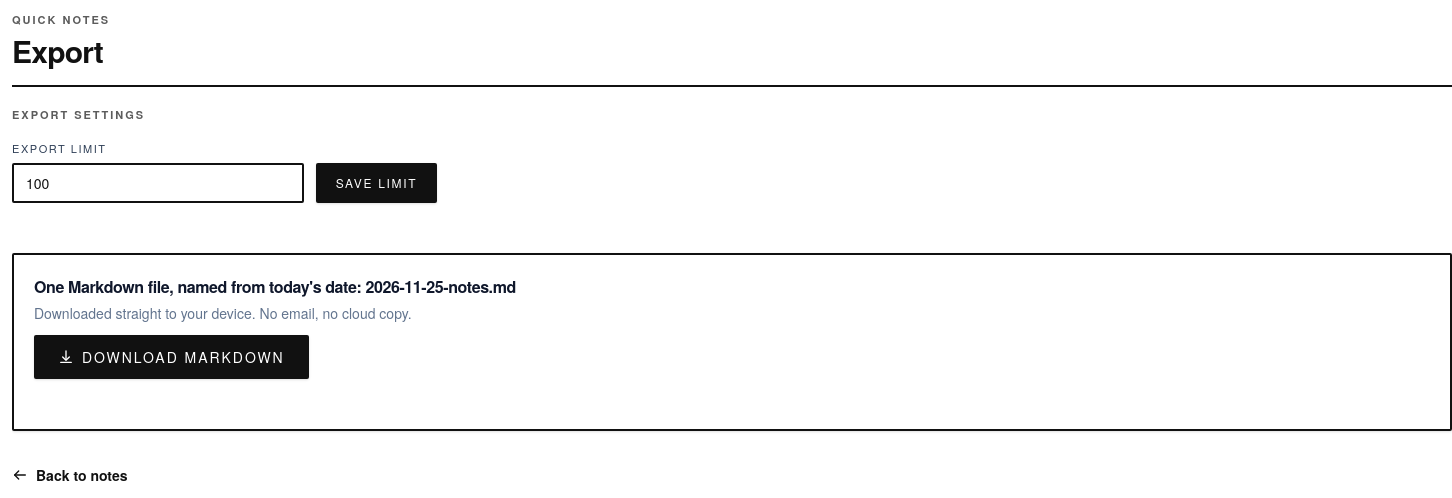
Export screen — export-limit setting › [AC-019] reports a problem, without the validation wording, when a valid number fails to save
Replace the text in the field with test id "export-limit-default-100-input" with "25" at (158, 183), box [12, 163, 304, 203]
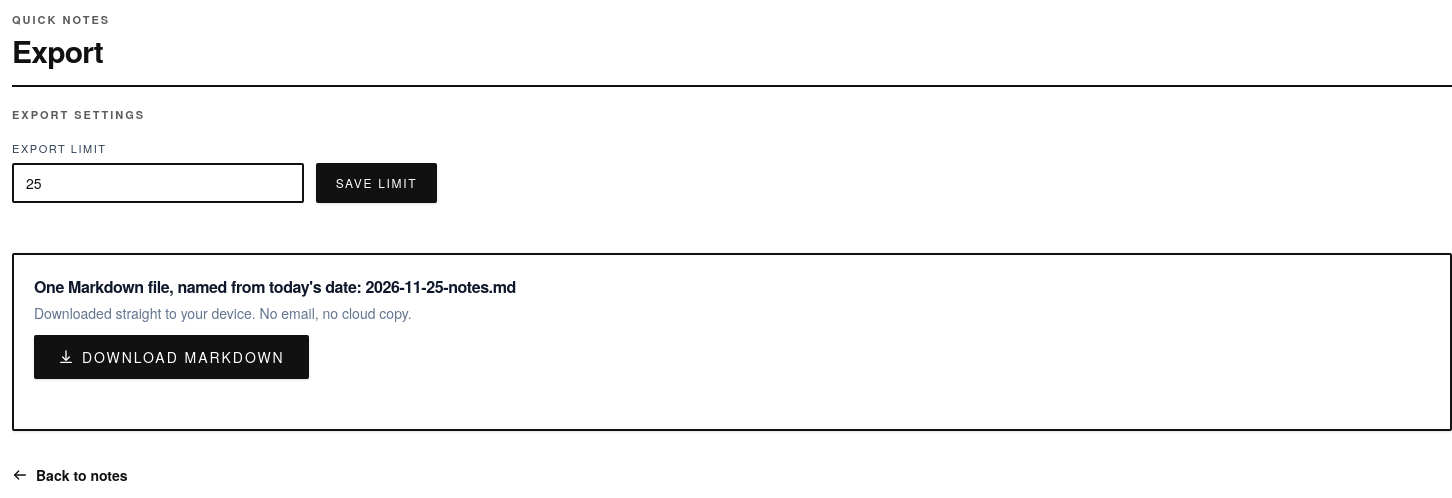
Click the button with test id "save-limit-btn".
click(376, 183)  # box [316, 163, 437, 203]
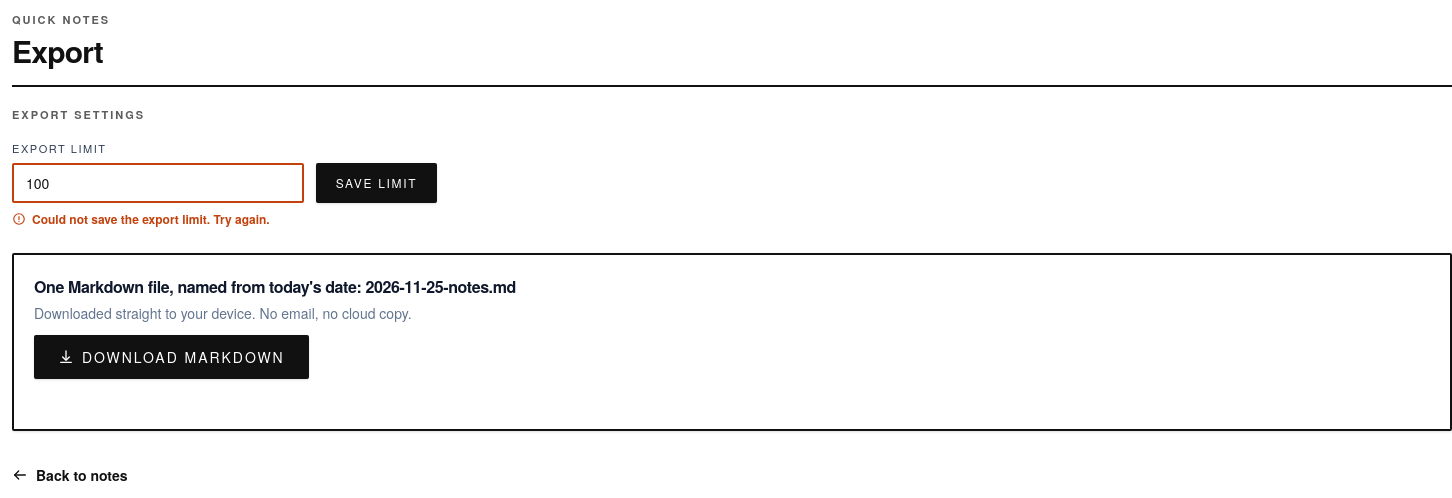
Check: the text "Could not save the export limit. Try again." is shown, box [12, 211, 270, 227]
